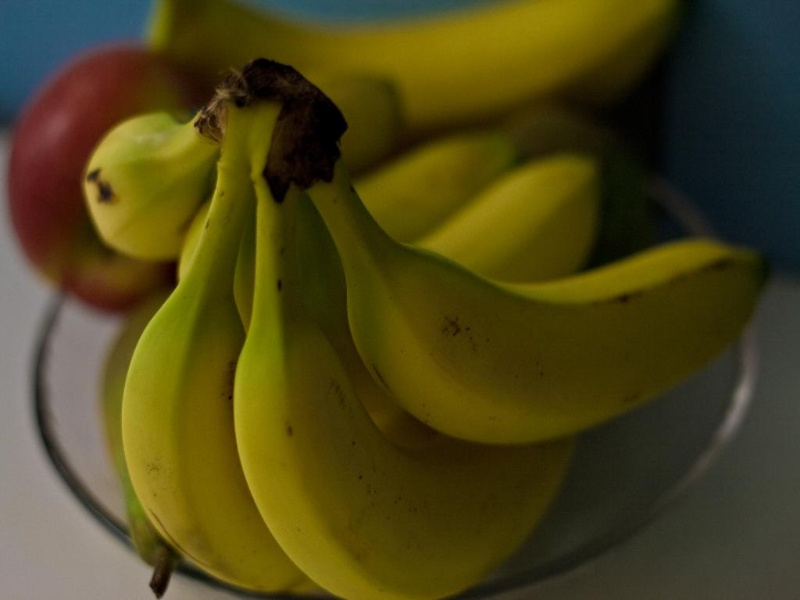banana: (121, 59, 778, 600)
